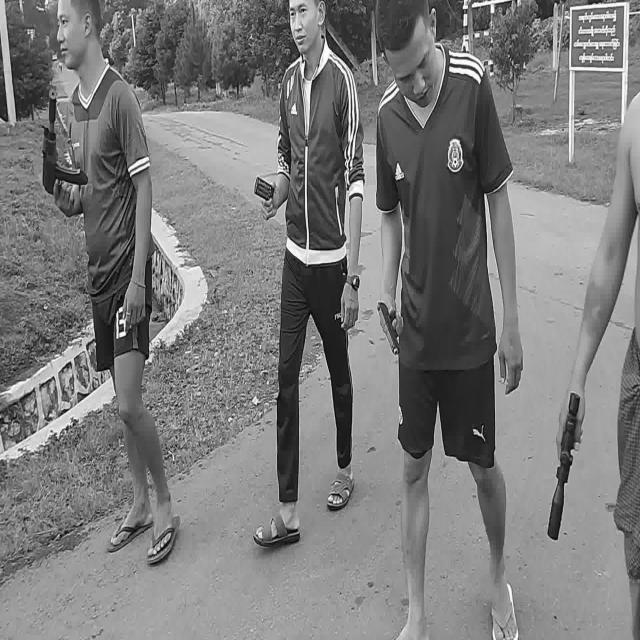gun: (43, 90, 88, 196), (376, 301, 399, 355)
